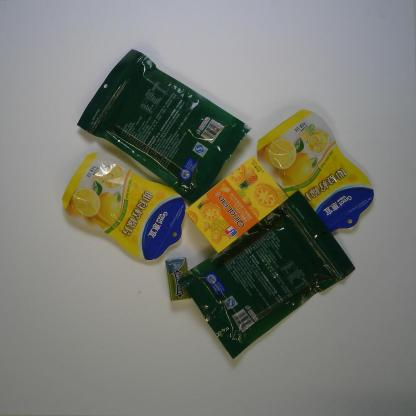Dessert: (184, 155, 290, 255)
Dried Food: (177, 189, 357, 361), (74, 47, 253, 204)
Dried Fruit: (256, 108, 375, 235), (61, 149, 187, 262)
Gum: (164, 256, 192, 301)
